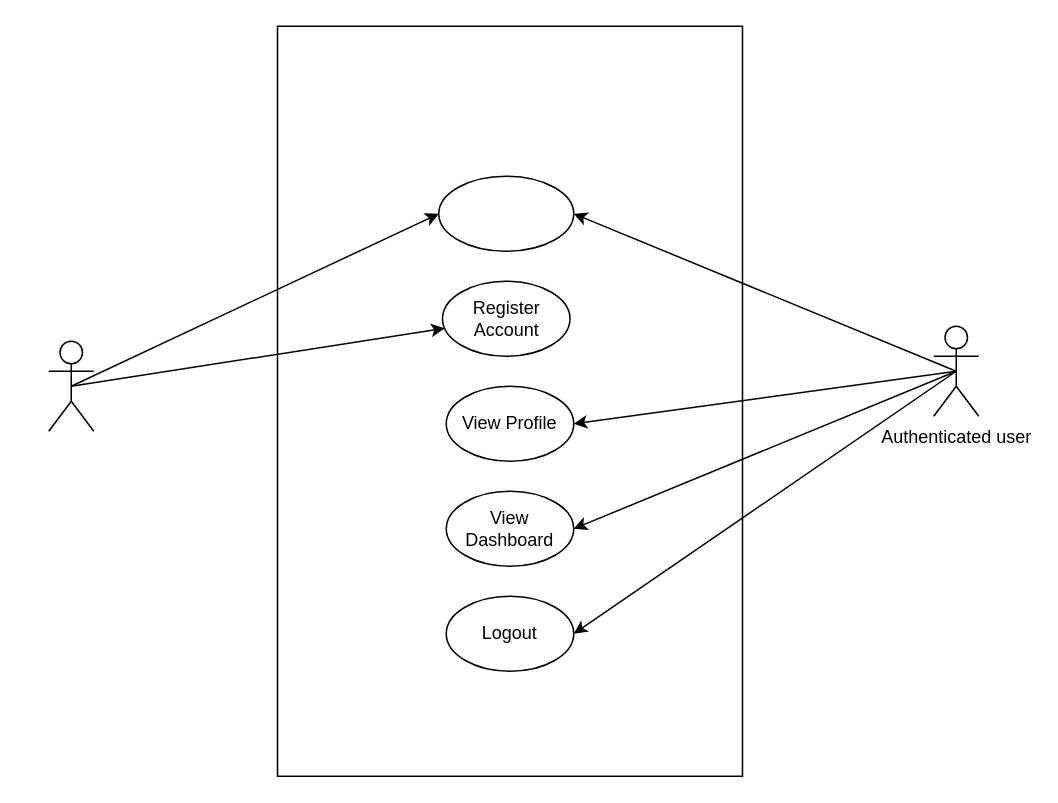
Image size: 1058x803. Some labels were removed from this diagram. Each missing label, with the centre of its shape:
Guest User: point 70,385
Login: point 505,213
